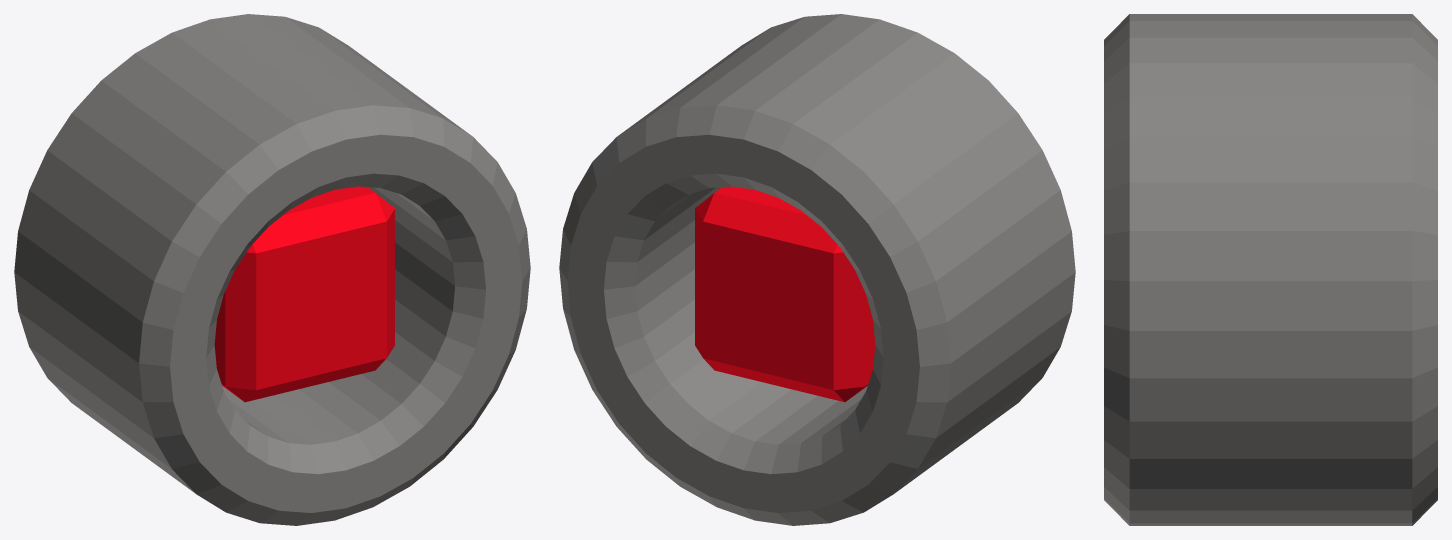
Rendered from wheel.obj.
3 renders of one model, left to right at view 1: azimuth 30°, elevation 25°; view 2: azimuth 150°, elevation 25°; view 3: azimuth 270°, elevation 25°, orthographic. The views are drawn at different scales.
Visible parts, largest first — view 1: タイヤ_円柱; view 2: タイヤ_円柱; view 3: タイヤ_円柱.
Boxes of the visible parts, left/top/right/bottom form: タイヤ_円柱: left=14, top=14, right=530, bottom=525; タイヤ_円柱: left=559, top=14, right=1075, bottom=525; タイヤ_円柱: left=1104, top=14, right=1437, bottom=525.
Bounding box in the file's own units: 2 × 2 × 1.3.
Materials: 1 (1 with a texture image).
